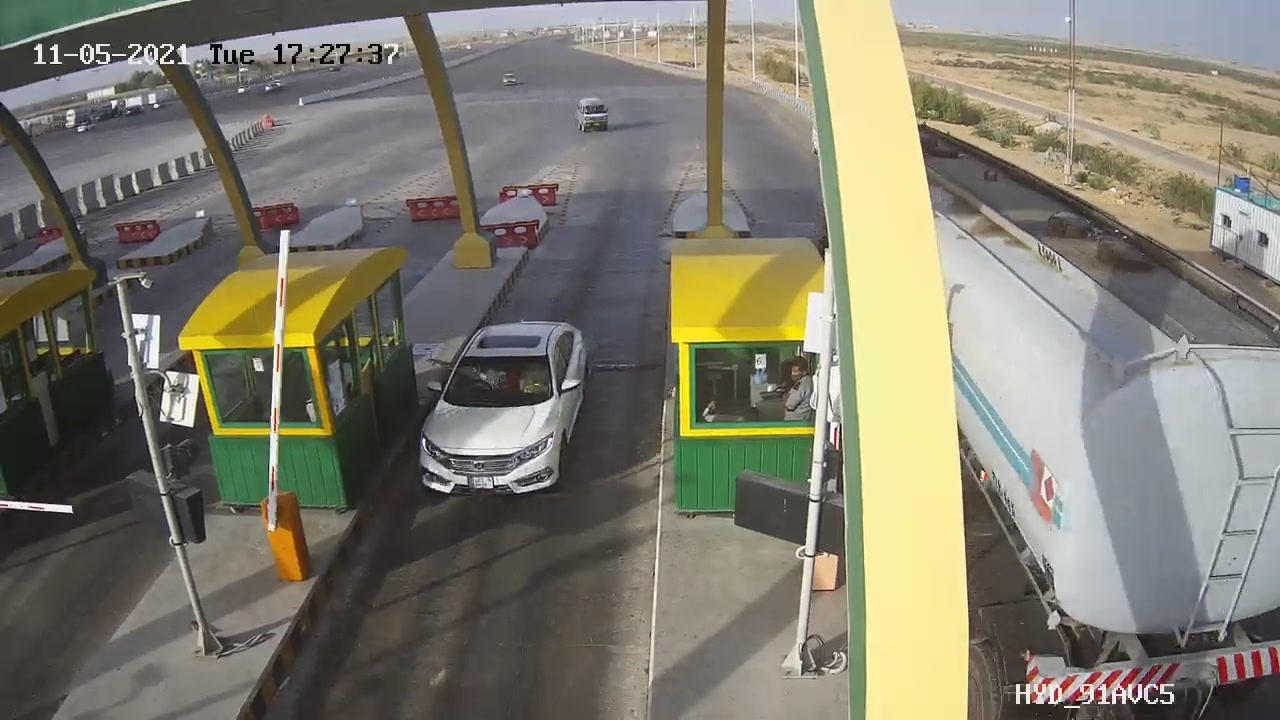F1: (400, 301, 613, 509)
